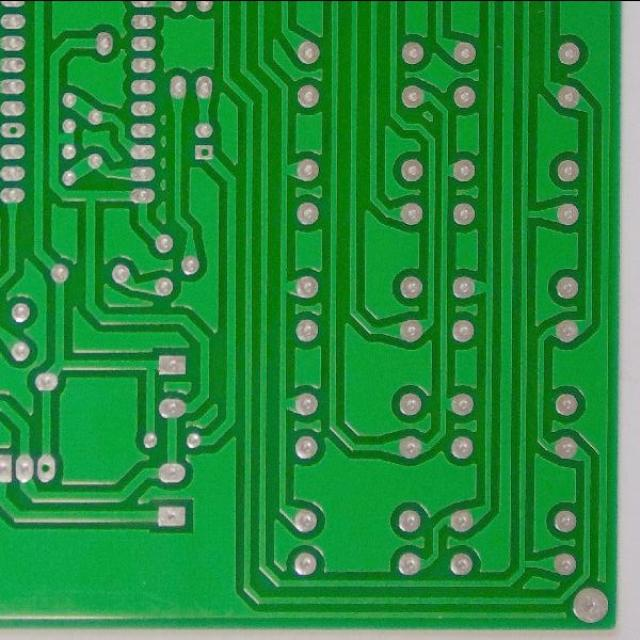Missing_Hole: (35, 452, 59, 483), (1, 118, 27, 140), (193, 141, 217, 162)
